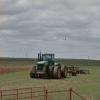Tractor: (24, 44, 86, 83)
